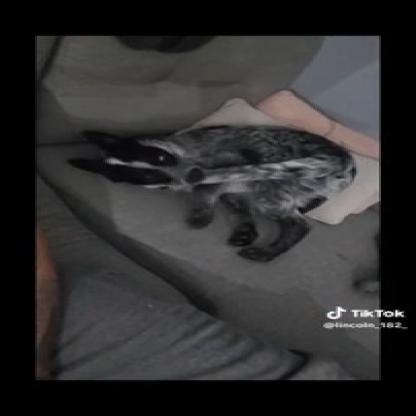dog: (68, 114, 361, 262)
